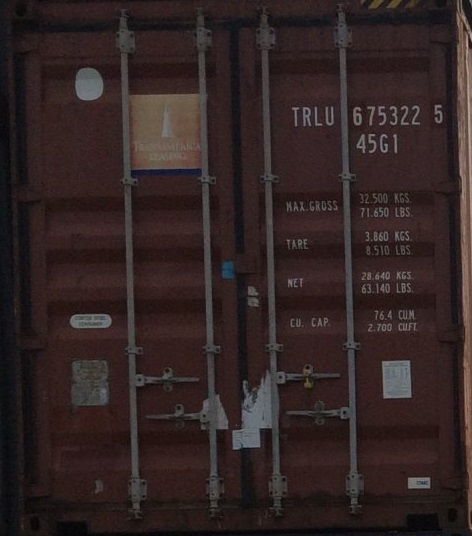container_door: (23, 4, 458, 529)
